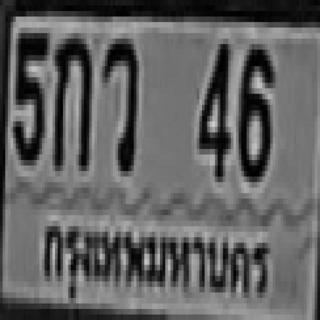A01: (52, 33, 89, 166)
A37: (100, 33, 136, 171)
N04: (197, 38, 228, 176)
N05: (13, 28, 44, 160)
N06: (236, 38, 270, 176)
P04: (35, 213, 270, 306)
